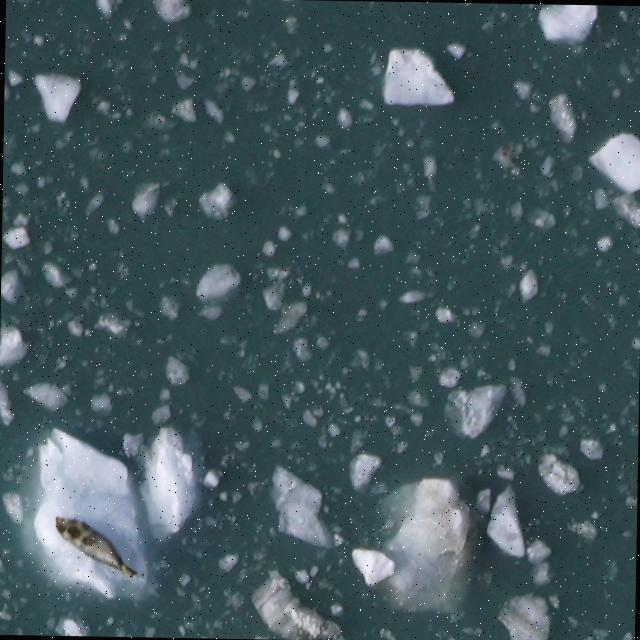seal: (50, 512, 141, 580)
